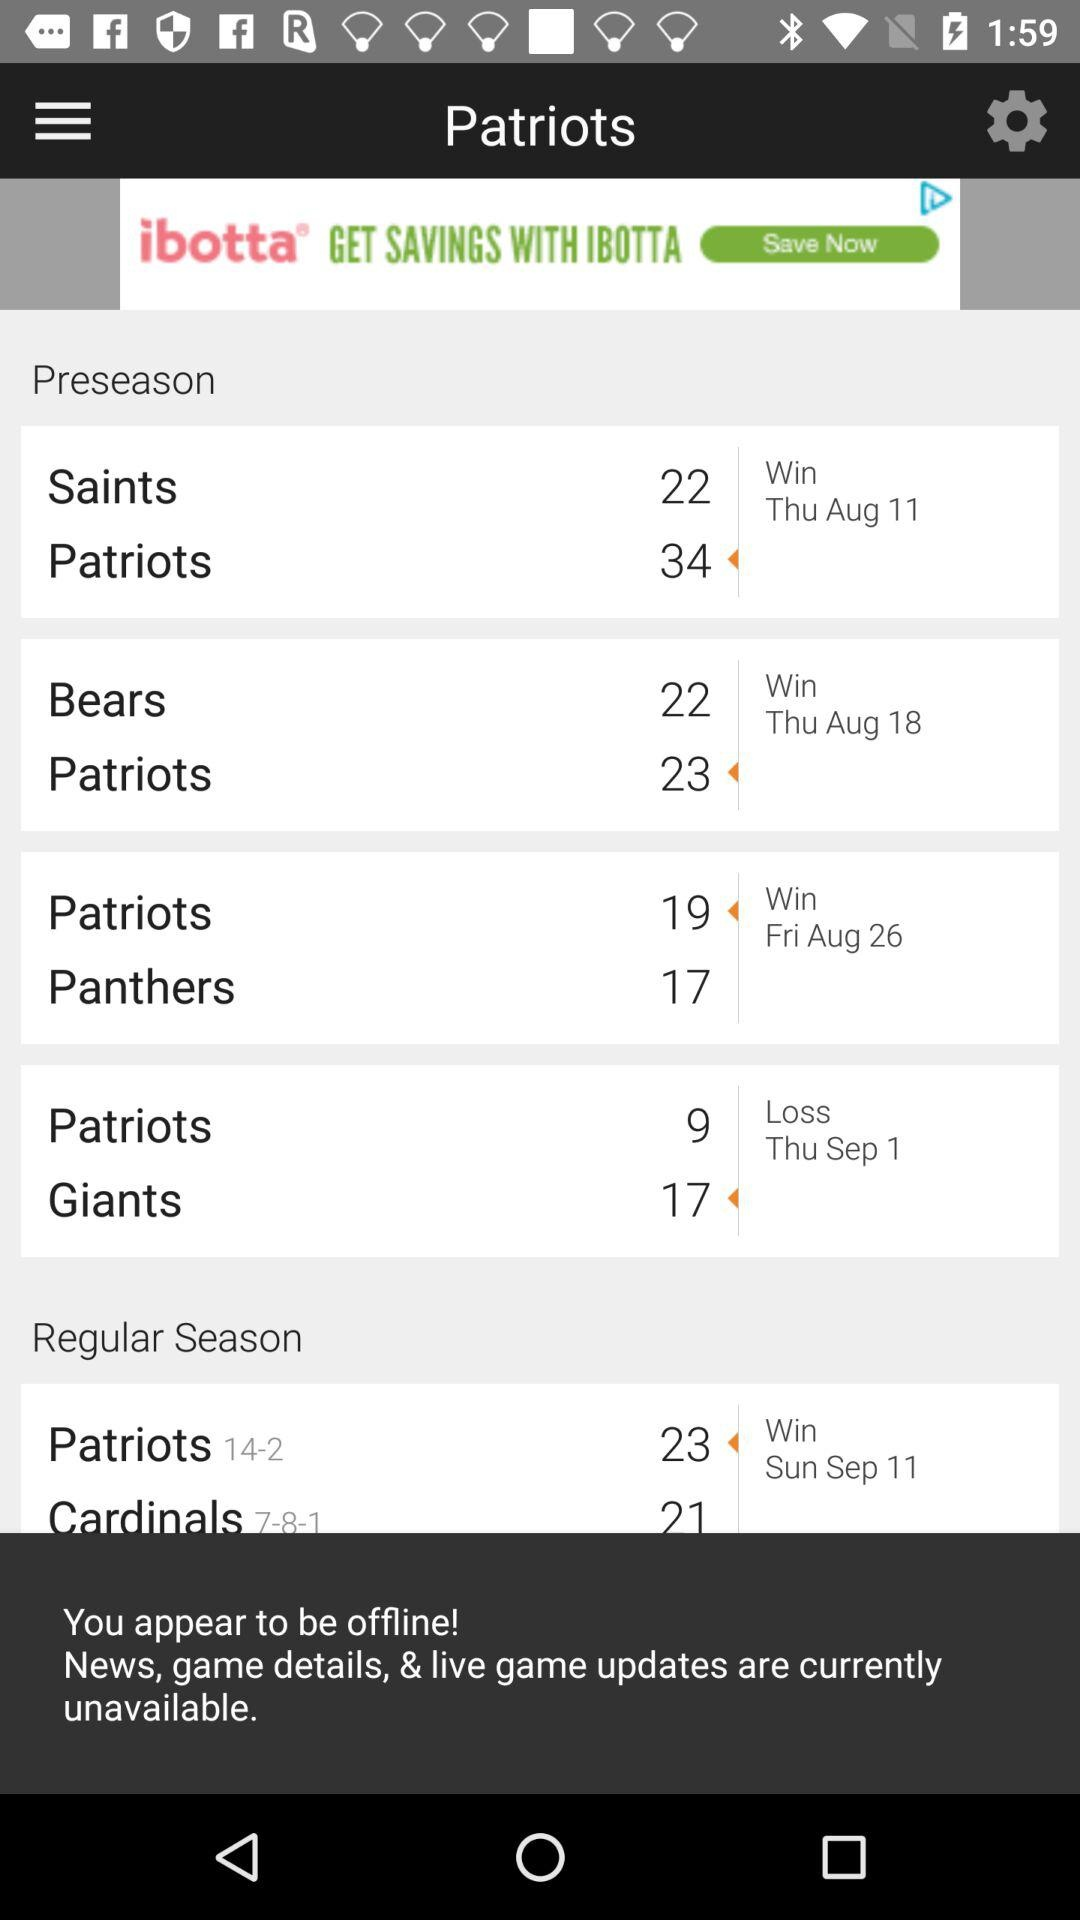TextView: (32, 1534, 1048, 1793)
